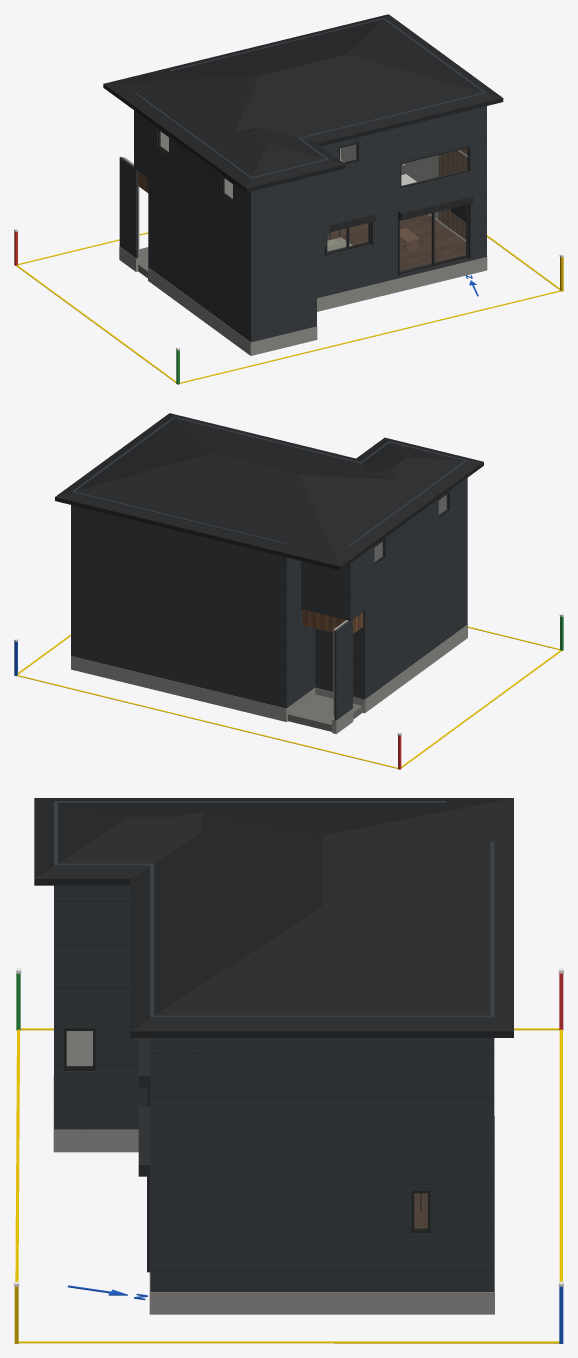
The picture shows the model from 3 angles, top to bottom: view 1: azimuth 30°, elevation 25°; view 2: azimuth 150°, elevation 25°; view 3: azimuth 270°, elevation 25°; orthographic projection. The views are drawn at different scales.
Parts seen in each view (by area): view 1: siding, roof, glass, found, floor, frame, shutter, lotline, wall, accent; view 2: siding, roof, found, lotline, tile, woodceil, wall; view 3: siding, roof, found, lotline, shutter, glass, wall, frame.
Part boxes in pixels (<box>): siding: <box>119,18,486,342</box>; roof: <box>103,14,503,192</box>; glass: <box>160,132,467,271</box>; found: <box>119,246,487,355</box>; floor: <box>327,214,465,270</box>; frame: <box>158,128,469,274</box>; shutter: <box>325,193,473,275</box>; lotline: <box>16,232,560,383</box>; wall: <box>123,131,438,253</box>; accent: <box>438,148,467,239</box>; siding: <box>71,417,467,720</box>; roof: <box>55,413,483,570</box>; found: <box>71,624,467,733</box>; lotline: <box>17,626,561,768</box>; tile: <box>288,694,362,731</box>; woodceil: <box>302,609,362,633</box>; wall: <box>333,495,446,715</box>; siding: <box>54,801,494,1291</box>; roof: <box>34,798,513,1037</box>; found: <box>53,1076,494,1314</box>; lotline: <box>15,1028,562,1343</box>; shutter: <box>138,1038,150,1272</box>; glass: <box>67,1031,427,1227</box>; wall: <box>66,1031,92,1065</box>; frame: <box>64,1028,430,1233</box>.
Size of the model in its own units: 14.14 by 7.01 by 10.42.
31 materials, 6 textured.
